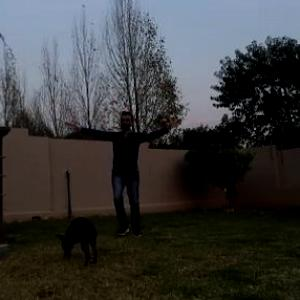takeoff: (64, 112, 180, 244)
